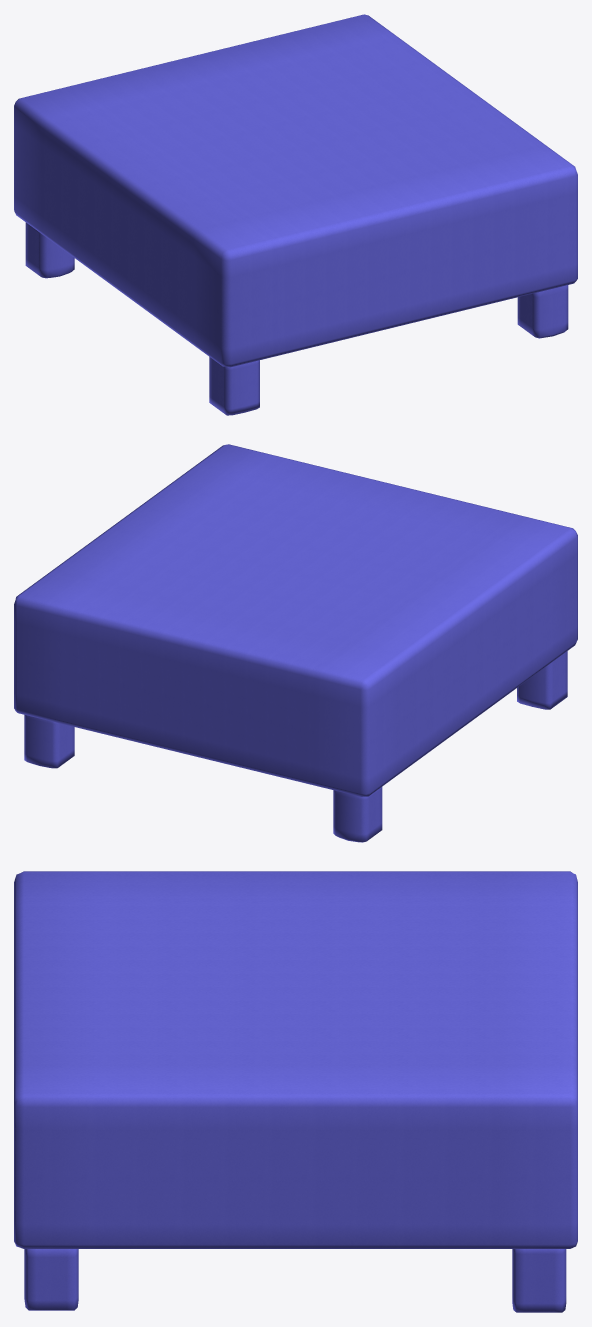
File: table_dae.dae
3 renders of one model, top to bottom at view 1: azimuth 30°, elevation 25°; view 2: azimuth 150°, elevation 25°; view 3: azimuth 270°, elevation 25°, orthographic. The views are drawn at different scales.
Parts seen in each view (by area): view 1: Table; view 2: Table; view 3: Table.
Part boxes in pixels (x1,y1,x2,y2): Table: (14,14,577,415); Table: (14,444,577,842); Table: (14,871,577,1312).
Size of the model in its own units: 0.6752 by 0.7021 by 0.3043.
Materials: 1 (1 with a texture image).
